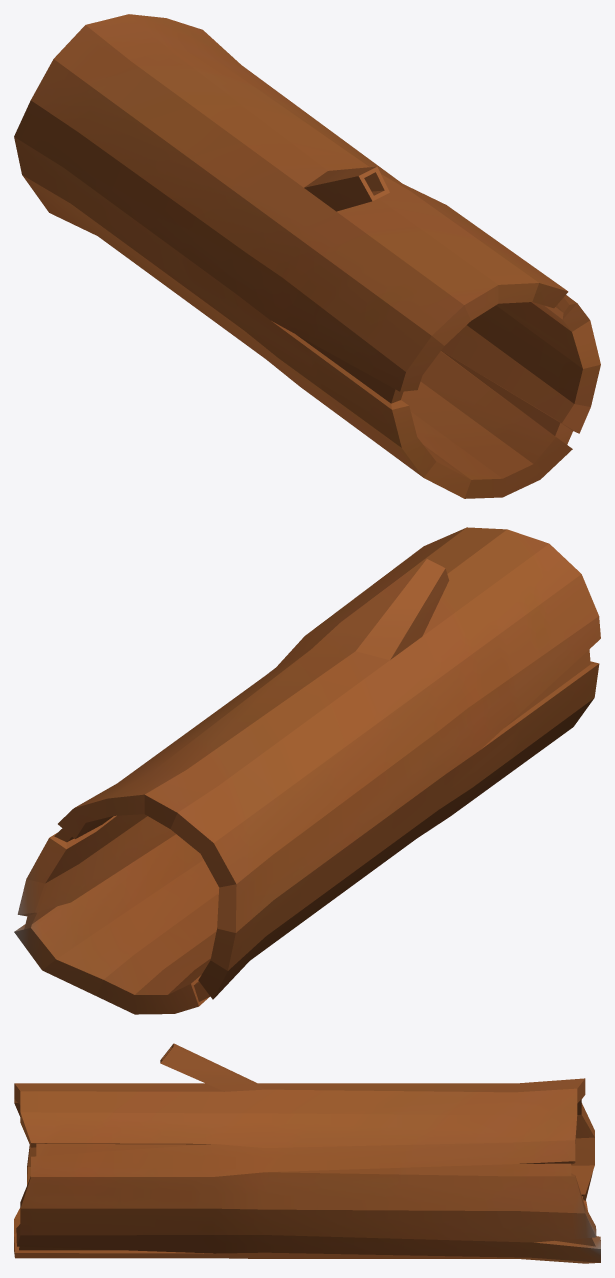
Rendered from log.glb.
3 views of the same model, one above another, from view 1: azimuth 30°, elevation 25°; view 2: azimuth 150°, elevation 25°; view 3: azimuth 270°, elevation 25° (orthographic). The views are drawn at different scales.
Parts seen in each view (by area): view 1: hollowLog; view 2: hollowLog; view 3: hollowLog.
Boxes of the visible parts, x1,y1,x2,y2 form: hollowLog: (14, 14, 600, 498); hollowLog: (14, 527, 600, 1014); hollowLog: (14, 1043, 600, 1263).
Size of the model in its own units: 1.31 by 1.49 by 3.99.
1 material, 1 textured.
